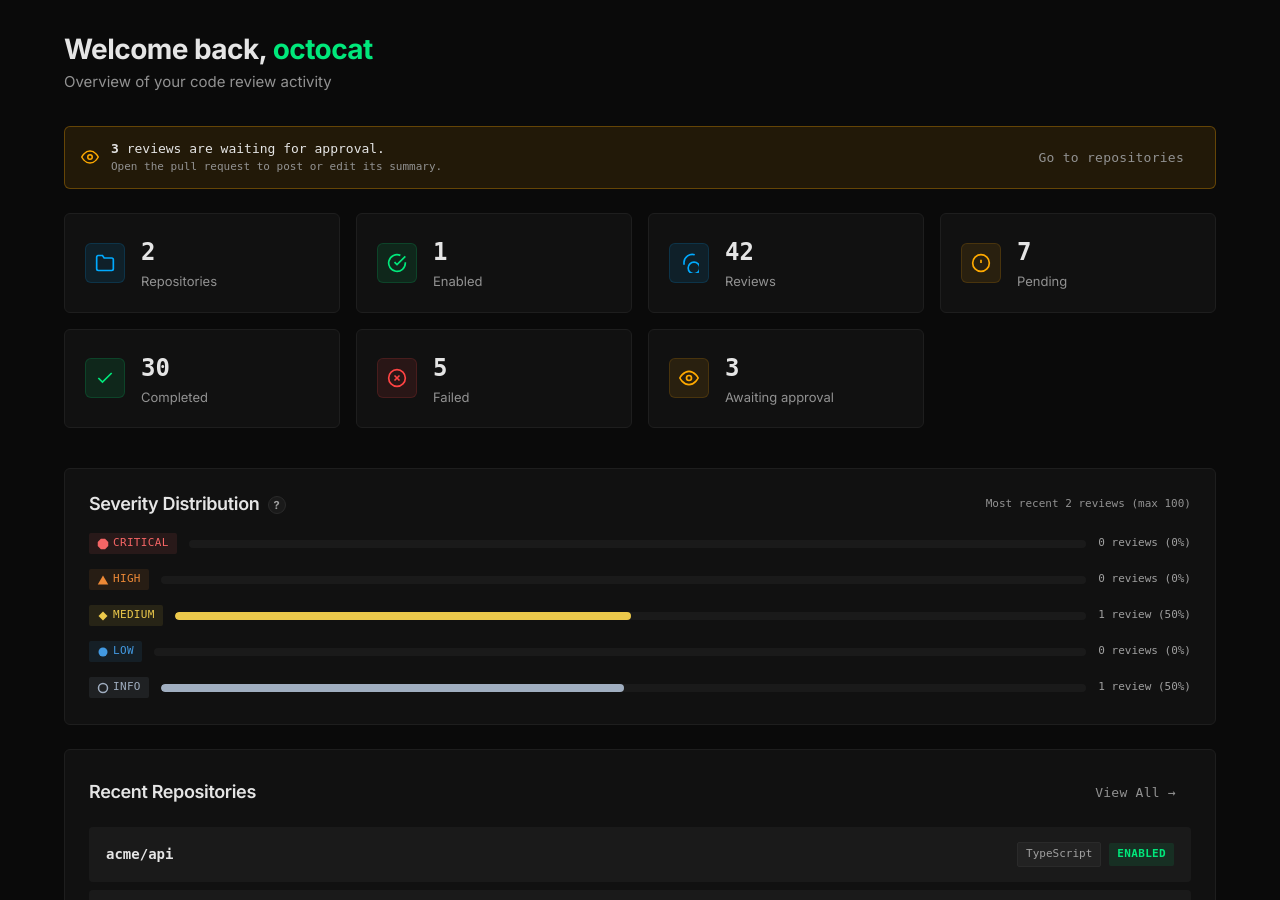
Test: DashboardComponent — real API data (plan Step 10) › opens the severity "?" popover from the shared /help copy (Step 9)
What coordinates should you click on to do the following:
click the button with test id "help-trigger"
I would click on:
 (277, 505)
Its box is [268,496,286,514].
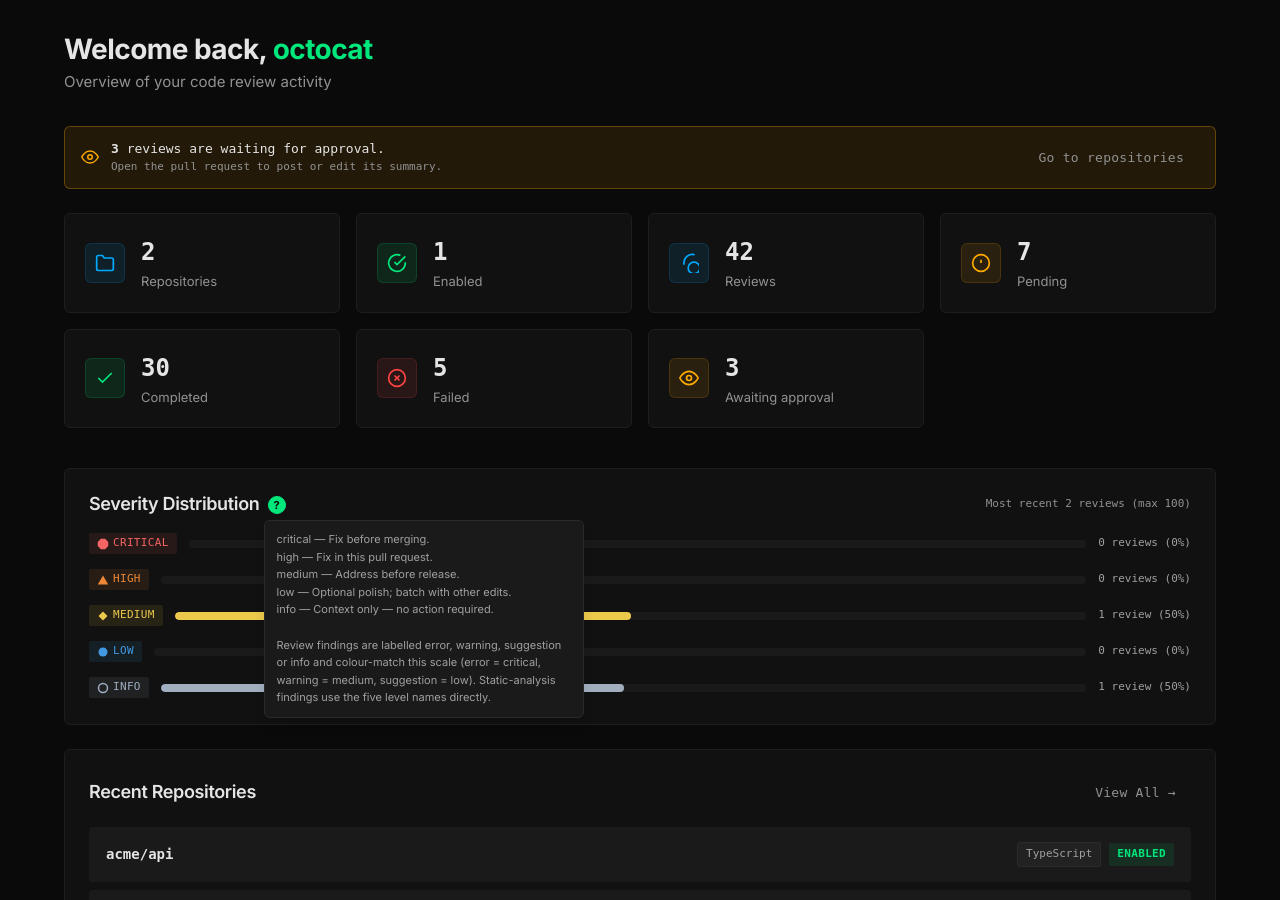
Check: the button with test id "help-trigger" is expanded, box [268,496,286,514]
Check: the text with test id "help-panel" shows "critical — Fix before merging.", box [277,532,561,704]
Check: the text with test id "help-panel" shows "error = critical, warning = medium, suggestion = low", box [277,532,561,704]
